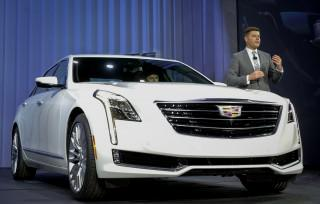cadillac: (214, 103, 247, 119)
